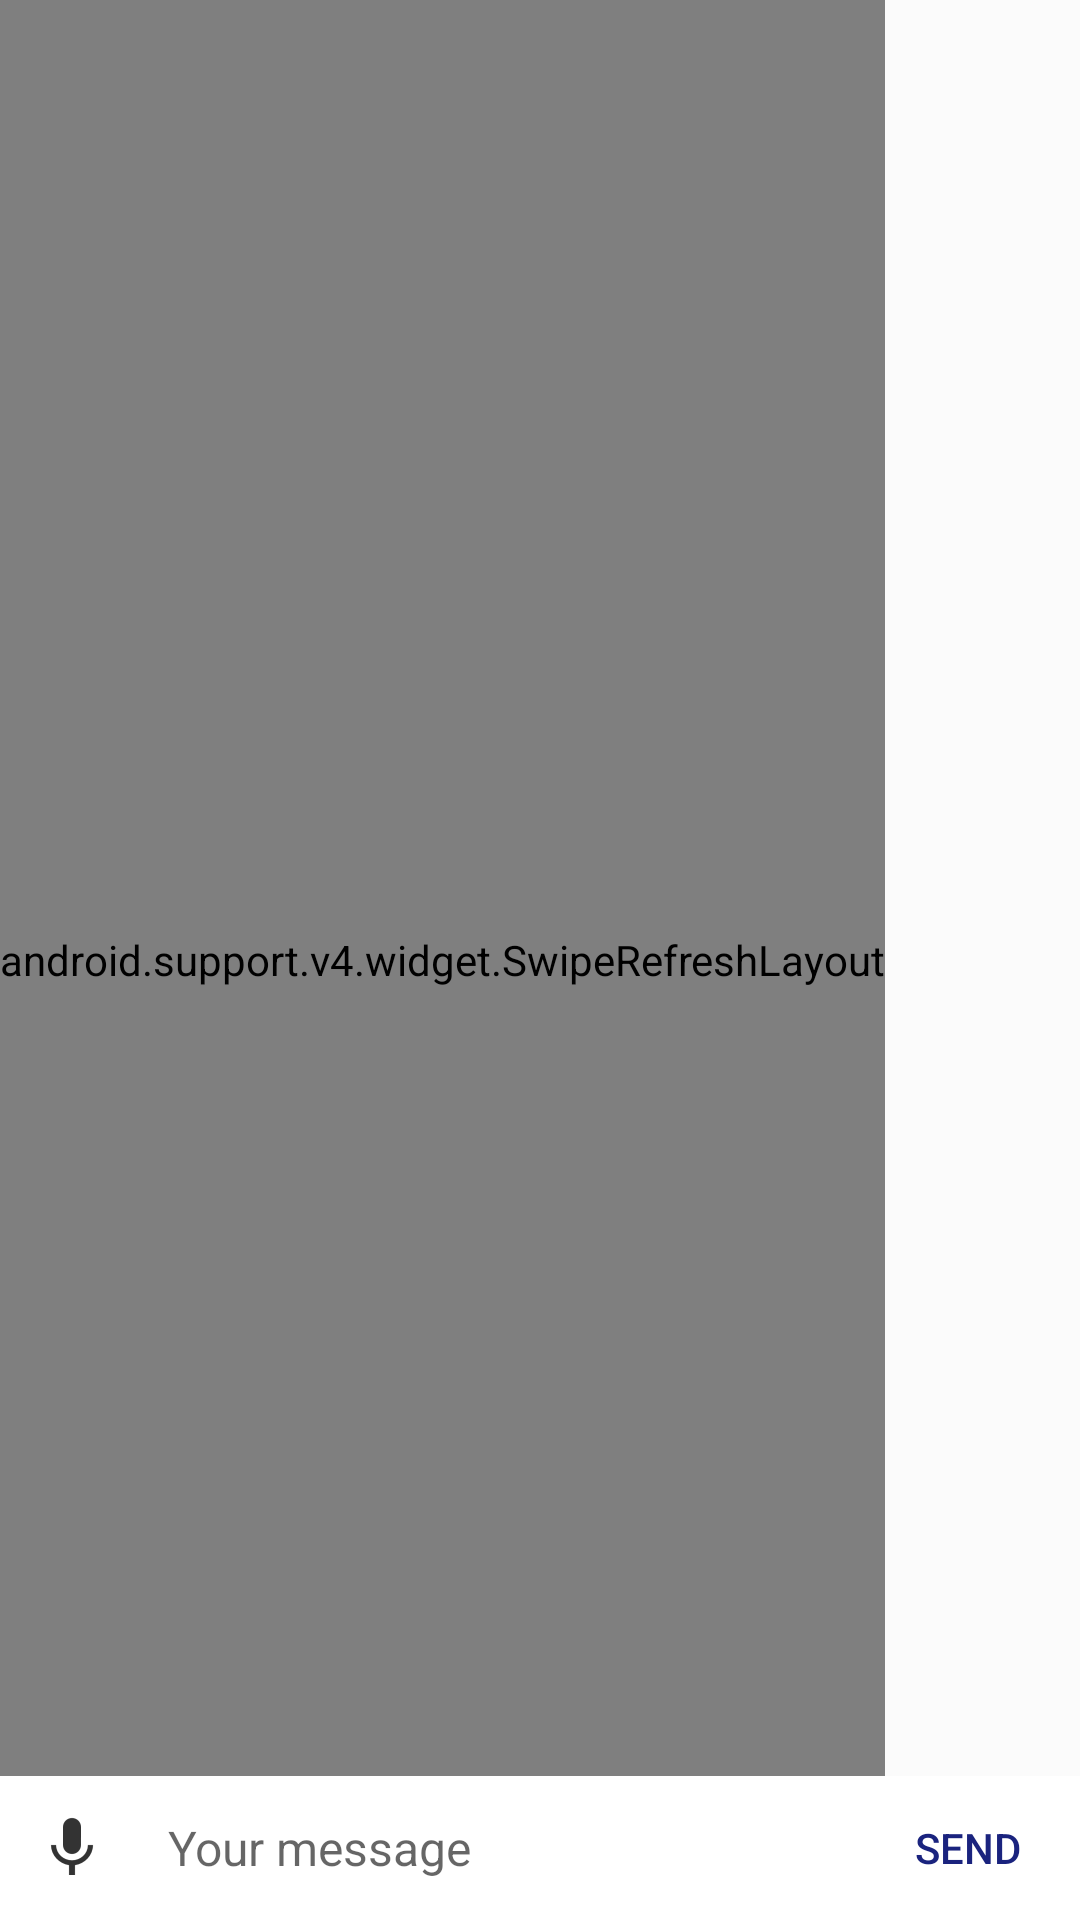

Where icons sit on this 1080x1920 app screen, as (x1, y1, x2, y2):
record: (51, 1818, 93, 1875)
